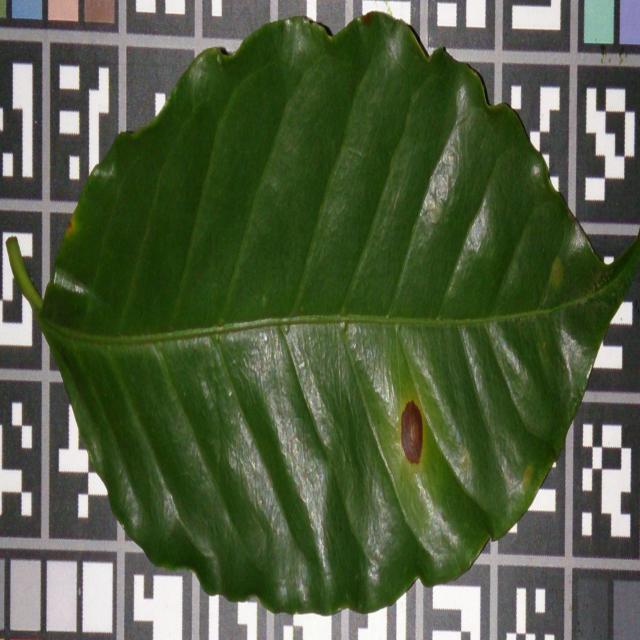Enfermedad-Mancha-de-hierro: (35, 14, 640, 619)
